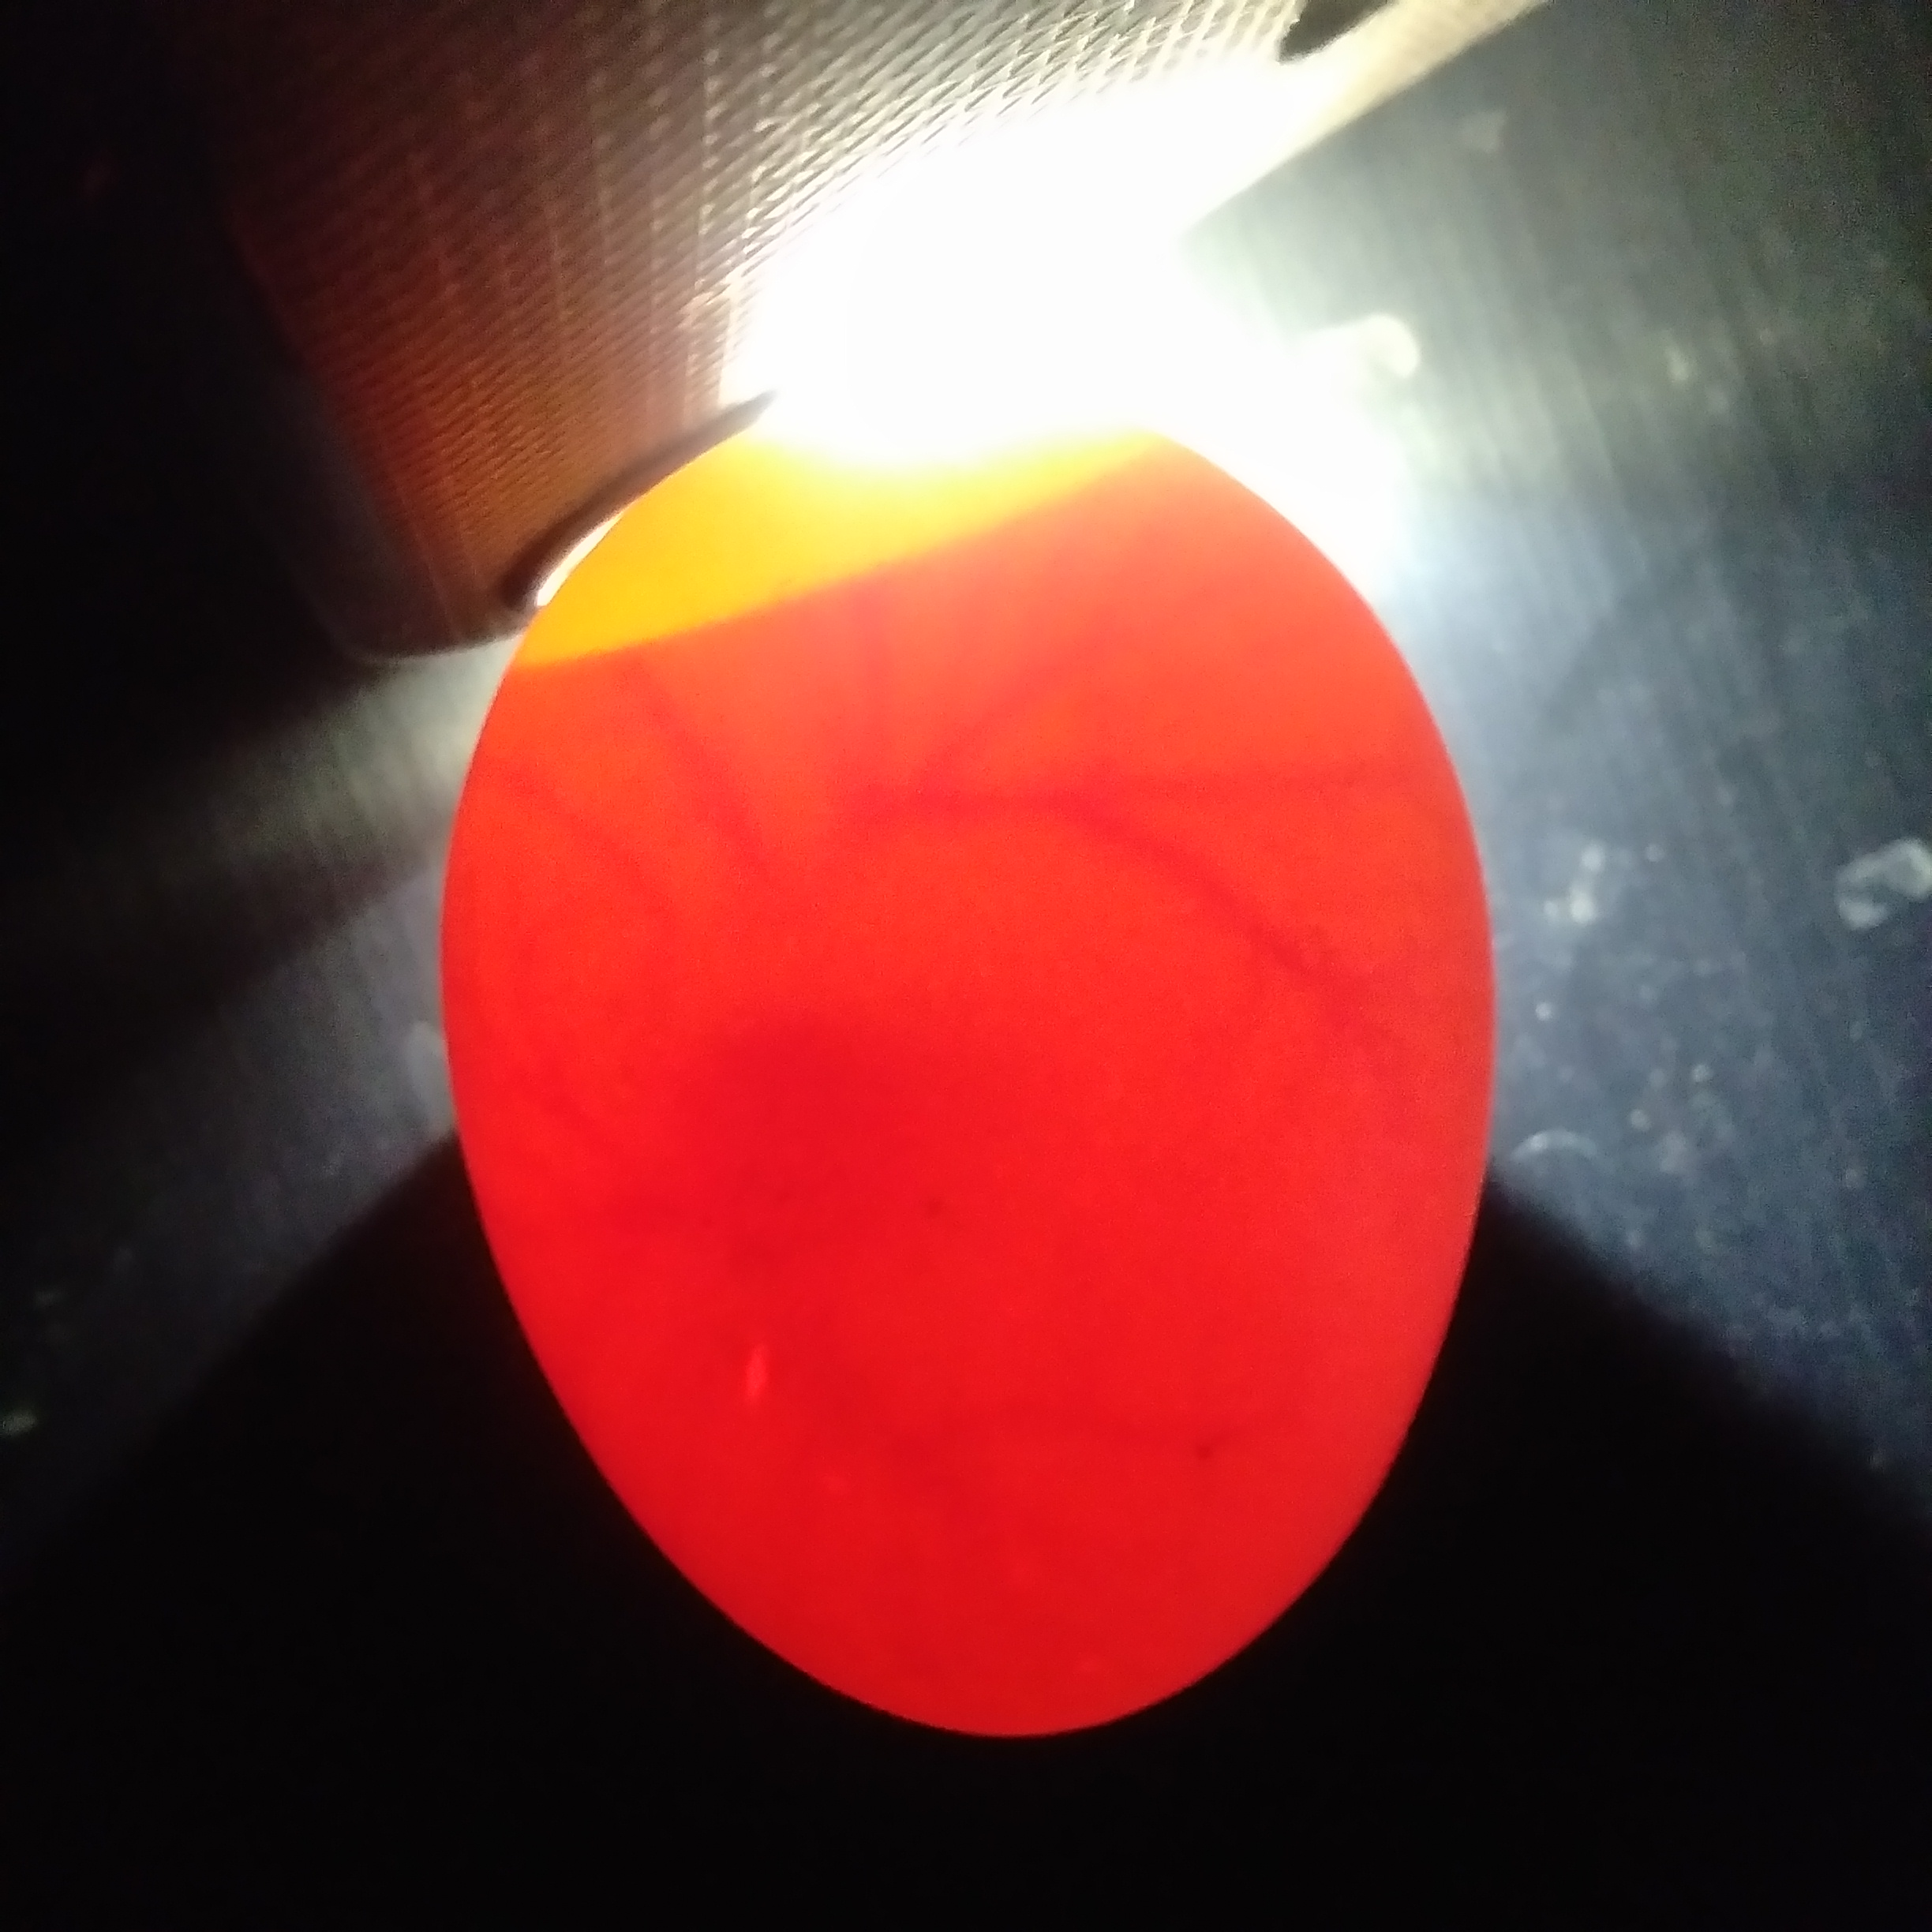bloodcell: (594, 715, 1371, 998), (621, 1219, 1109, 1541), (770, 632, 1304, 695)
